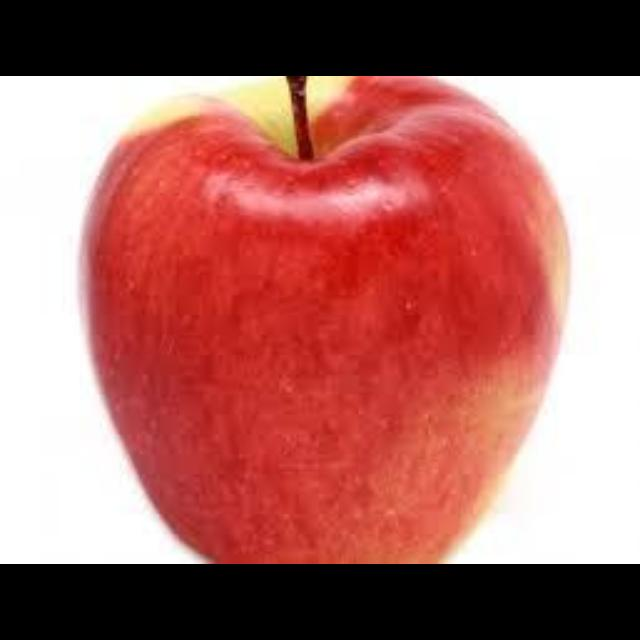apple: (82, 76, 568, 562)
